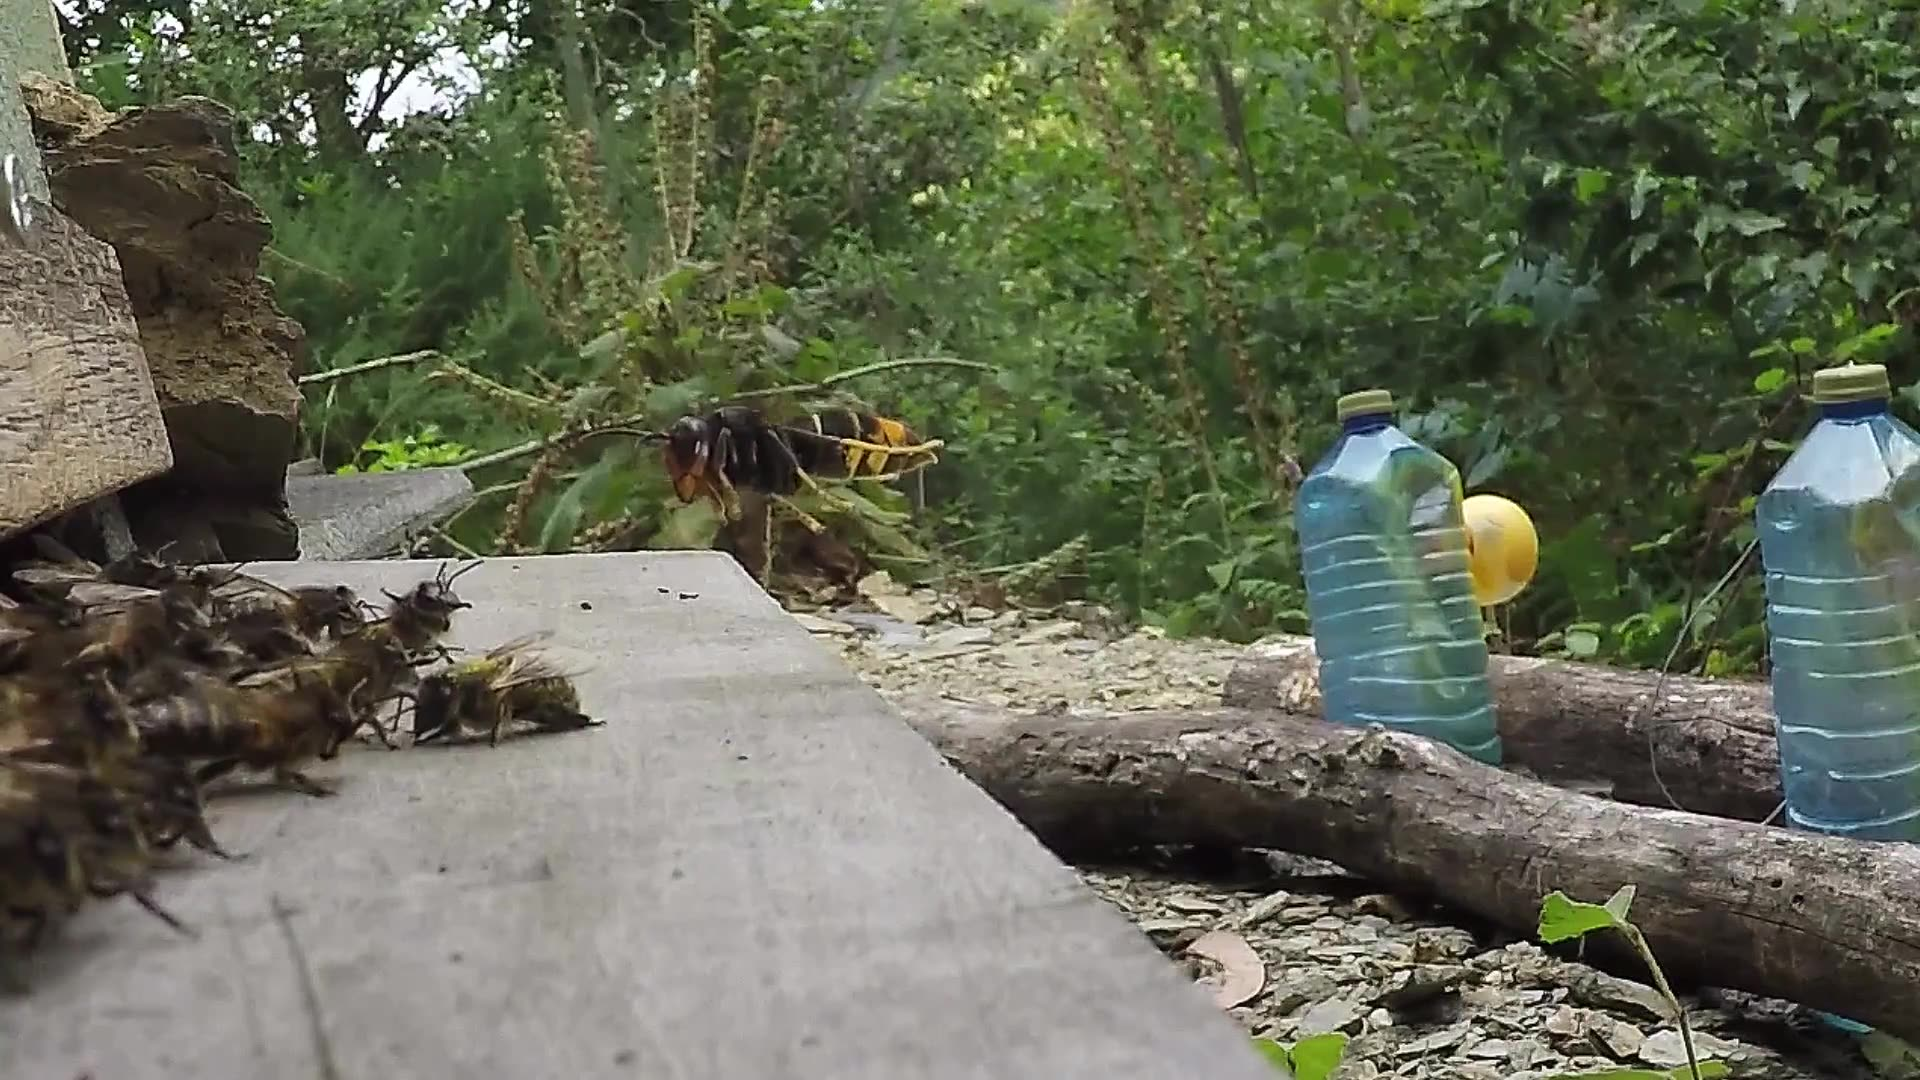bee: (1, 559, 291, 951), (282, 574, 477, 753), (401, 647, 599, 746)
hornet: (651, 396, 957, 531)
